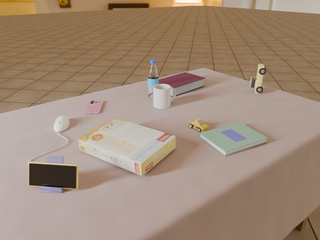book: (199, 122, 268, 156), (159, 72, 204, 97)
bottle: (148, 60, 159, 97)
box: (78, 118, 175, 176)
cup: (153, 84, 176, 109)
mouse: (54, 116, 69, 132)
phone: (29, 162, 78, 189), (84, 101, 103, 114)
toy_car: (250, 64, 266, 94), (188, 118, 209, 132)
